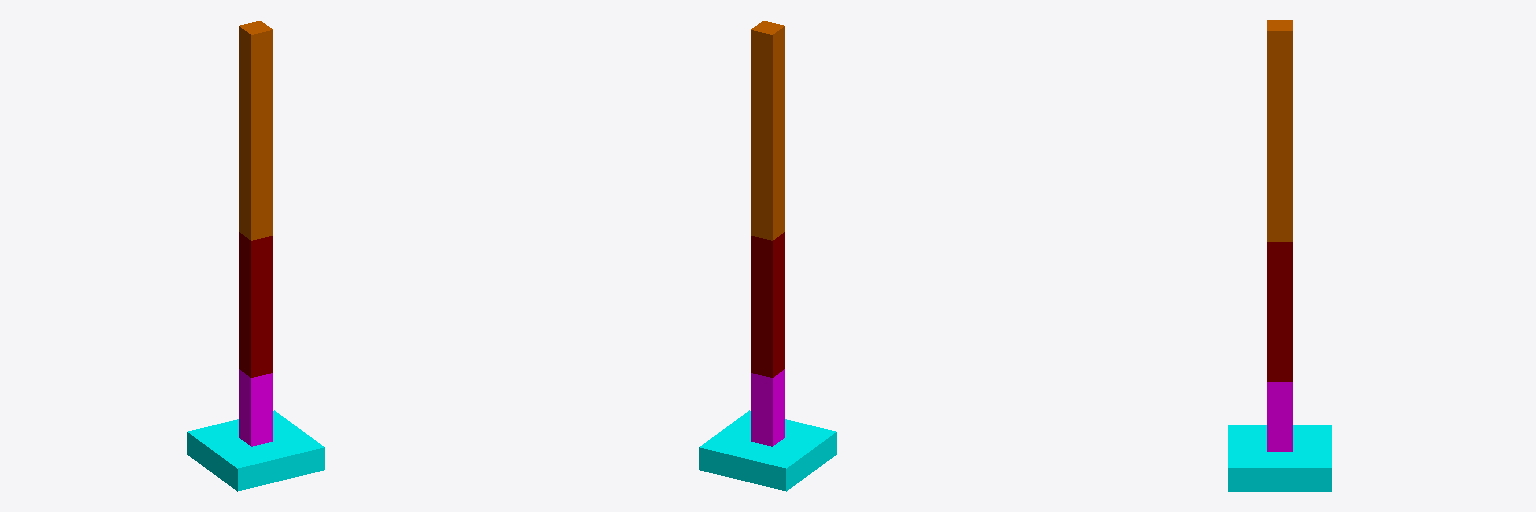
URDF robot description (robot_rrr):
<robot name="robot_rrr">

  <!-- BASE -->
  <link name="base_link">
    <visual>
      <geometry>
        <box size="0.2 0.2 0.05"/>
      </geometry>
      <origin xyz="0 0 0.025"/>
      <material name="cyan">
        <color rgba="0 1 1 1"/>
      </material>
    </visual>
  </link>

  <!-- COLUMNA -->
  <link name="shoulder_link">
    <visual>
      <geometry>
        <box size="0.05 0.05 0.15"/>
      </geometry>

      <origin xyz="0 0 0.075"/>

      <material name="magenta">
        <color rgba="1 0 1 1"/>
      </material>
    </visual>
  </link>

  <!-- ESLABON 2 -->
  <link name="arm_link">
    <visual>
      <geometry>
        <box size="0.05 0.05 0.3"/>
      </geometry>

      <origin xyz="0 0 0.15"/>

      <material name="red">
        <color rgba="0.6 0 0 1"/>
      </material>
    </visual>
  </link>

  <!-- ESLABON 3 -->
  <link name="forearm_link">
    <visual>
      <geometry>
        <box size="0.05 0.05 0.45"/>
      </geometry>

      <origin xyz="0 0 0.225"/>

      <material name="orange">
        <color rgba="0.8 0.4 0 1"/>
      </material>
    </visual>
  </link>

  <!-- JOINT 1 -->
  <joint name="shoulder_joint" type="revolute">
    <parent link="base_link"/>
    <child link="shoulder_link"/>

    <origin xyz="0 0 0.05"/>

    <axis xyz="0 0 1"/>

    <limit
      lower="-3.14"
      upper="3.14"
      effort="20"
      velocity="1"/>
  </joint>

  <!-- JOINT 2 -->
  <joint name="arm_joint" type="revolute">
    <parent link="shoulder_link"/>
    <child link="arm_link"/>

    <origin xyz="0 0 0.15"/>

    <axis xyz="0 1 0"/>

    <limit
      lower="-1.57"
      upper="1.57"
      effort="10"
      velocity="1"/>
  </joint>

  <!-- JOINT 3 -->
  <joint name="forearm_joint" type="revolute">
    <parent link="arm_link"/>
    <child link="forearm_link"/>

    <origin xyz="0 0 0.3"/>

    <axis xyz="0 1 0"/>

    <limit
      lower="-1.57"
      upper="1.57"
      effort="10"
      velocity="1"/>
  </joint>

</robot>

--- What the picture shows (computed from the rendered views, not written in the file) ---
Views: 3 orthographic renders of the robot side by side, from view 1: azimuth 30°, elevation 25°; view 2: azimuth 150°, elevation 25°; view 3: azimuth 270°, elevation 25°.
Model robot_rrr with 4 links and 3 joints (3 revolute), rooted at base_link, posed all joints at 0.
Links seen in each view (by area): view 1: forearm_link, base_link, arm_link, shoulder_link; view 2: forearm_link, base_link, arm_link, shoulder_link; view 3: base_link, forearm_link, arm_link, shoulder_link.
Link boxes in pixels (left/top/right/bottom): forearm_link: left=239, top=21, right=272, bottom=240; base_link: left=187, top=410, right=324, bottom=491; arm_link: left=239, top=232, right=272, bottom=377; shoulder_link: left=239, top=369, right=272, bottom=446; forearm_link: left=751, top=21, right=784, bottom=240; base_link: left=699, top=410, right=836, bottom=491; arm_link: left=751, top=232, right=784, bottom=377; shoulder_link: left=751, top=369, right=784, bottom=446; base_link: left=1228, top=425, right=1331, bottom=491; forearm_link: left=1267, top=20, right=1292, bottom=241; arm_link: left=1267, top=242, right=1292, bottom=381; shoulder_link: left=1267, top=382, right=1292, bottom=451.
Size in the robot's own frame: 0.2 by 0.2 by 0.95 metres.
Geometry: primitives only (box / cylinder / sphere), no mesh files.
